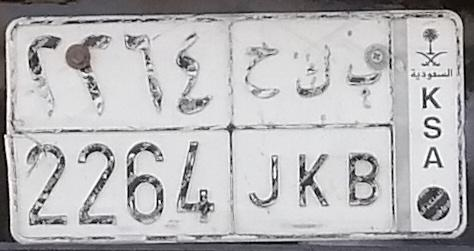2: (25, 34, 69, 226), (76, 32, 119, 226)
4: (175, 32, 218, 223)
6: (121, 32, 166, 225)
B: (345, 61, 384, 206)
J: (243, 45, 282, 209)
K: (296, 42, 332, 209)
